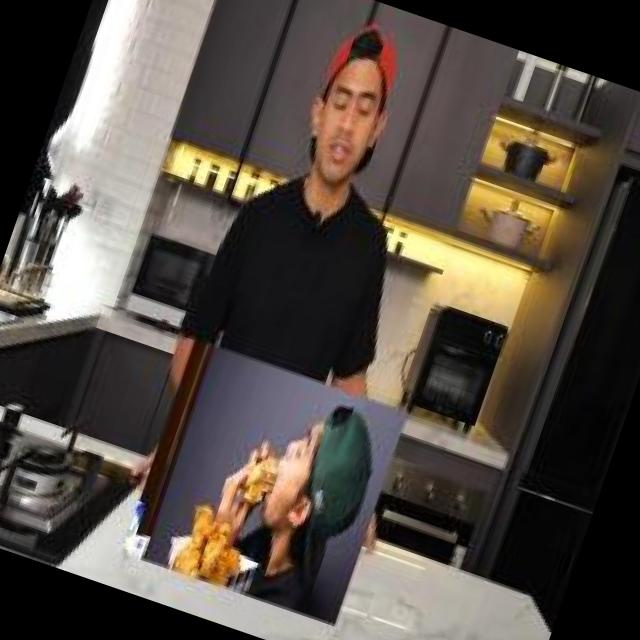burger: (231, 437, 291, 514)
fried chicken: (163, 491, 254, 596)
